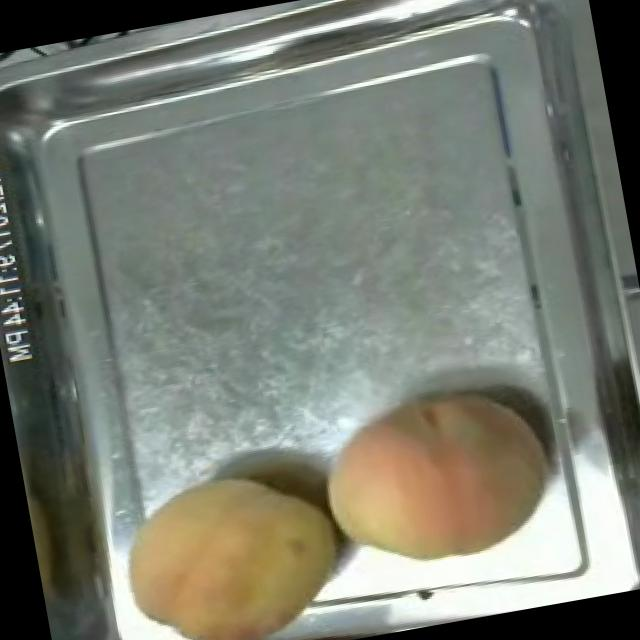Fruit: (304, 363, 570, 589), (100, 448, 362, 640)
